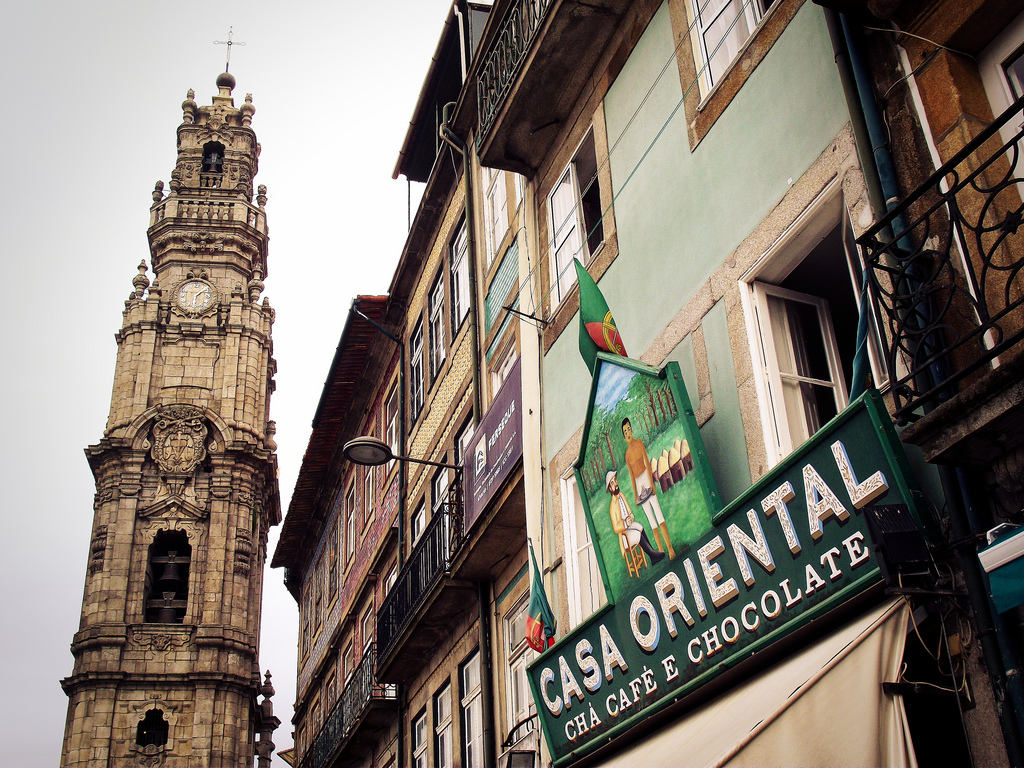clerigos: (59, 25, 283, 767)
